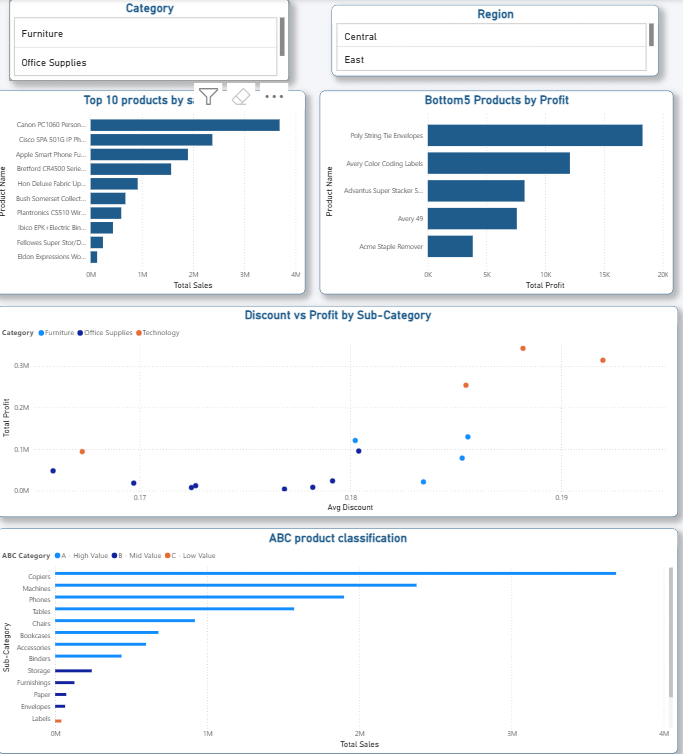

This screenshot's page, from the dashboard's own definition file:
{"tool":"powerbi","page":{"name":"Product performance","canvas":[1310,1400],"ordinal":1},"visuals":[{"type":"clusteredBarChart","title":"Top 10 products by sales","fields":{"Category":["Superstore_Sales.Product Name"],"Y":["Measures (2).Total Sales"]},"box":[28.1,166.4,568.3,369.5],"z":0},{"type":"clusteredBarChart","title":"Bottom5 Products by Profit","fields":{"Category":["Superstore_Sales.Product Name"],"Y":["Measures (2).Total Profit"]},"box":[622.3,166.4,641.7,369.5],"z":1000},{"type":"scatterChart","title":" Discount vs  Profit by Sub-Category ","fields":{"X":["Measures (2).Avg Discount"],"Y":["Measures (2).Total Profit"],"Category":["Superstore_Sales.Sub-Category"],"Series":["Superstore_Sales.Category"]},"box":[37.2,557.9,1236.1,382.9],"z":2000},{"type":"clusteredBarChart","title":"  ABC product classification","fields":{"Y":["Measures (2).Total Sales"],"Series":["Superstore_Sales.ABC Category"],"Category":["Superstore_Sales.Sub-Category"]},"box":[36.7,961.5,1236,408.4],"z":3000},{"type":"advancedSlicerVisual","fields":{"Values":["Superstore_Sales.Category"]},"box":[58.3,0,509.9,149.1],"z":4000},{"type":"advancedSlicerVisual","fields":{"Values":["Superstore_Sales.Region"]},"box":[643.9,10.8,594.2,129.6],"z":5000}]}

Visuals, with their boxes on the page's 1310x1400 design canvas (x1, y1, x2, y2). These are canvas units, not pixel positions in the 683x754 screenshot, which may show the page scaled, cropped or inside an application window:
"Top 10 products by sales" clusteredBarChart: box(28, 166, 596, 536)
"Bottom5 Products by Profit" clusteredBarChart: box(622, 166, 1264, 536)
" Discount vs  Profit by Sub-Category " scatterChart: box(37, 558, 1273, 941)
"  ABC product classification" clusteredBarChart: box(37, 962, 1273, 1370)
advancedSlicerVisual - Superstore_Sales.Category: box(58, 0, 568, 149)
advancedSlicerVisual - Superstore_Sales.Region: box(644, 11, 1238, 140)
